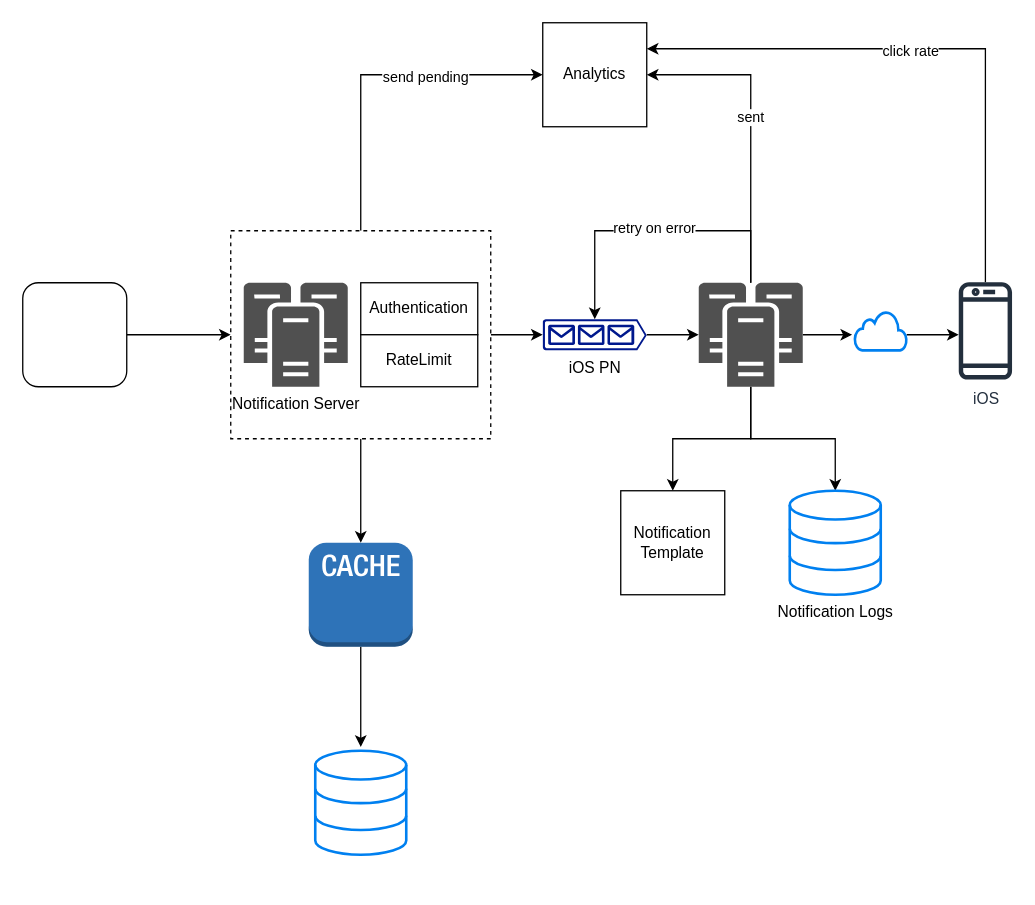
Image size: 1035x905. Some labels were removed from this diagram. Here are the shapes that lost their labels. From the top down, the centre of each, then its label:
At point (74, 334): "Service".
At point (750, 334): "Workers".
At point (880, 330): "APNs".
At point (360, 802): "deviceInfo/userInfo".
